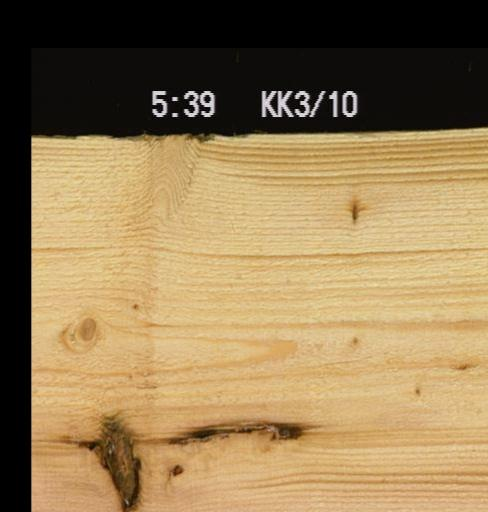small_knot: (347, 200, 358, 227), (411, 385, 422, 397), (350, 336, 359, 344)
sound_knot: (75, 314, 96, 341)
wave: (31, 131, 249, 143)
